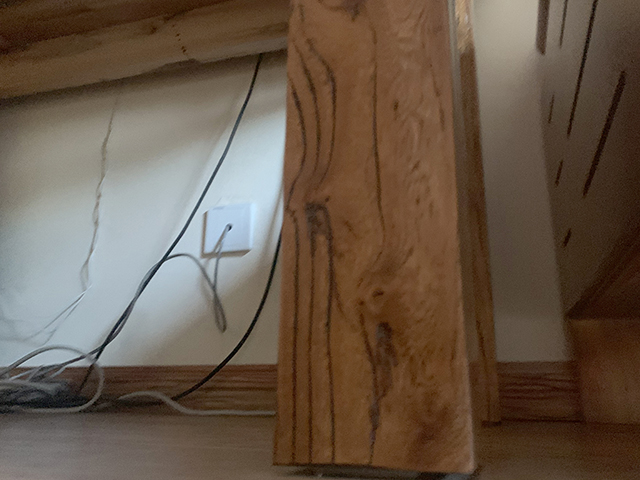wire: (2, 59, 276, 418)
